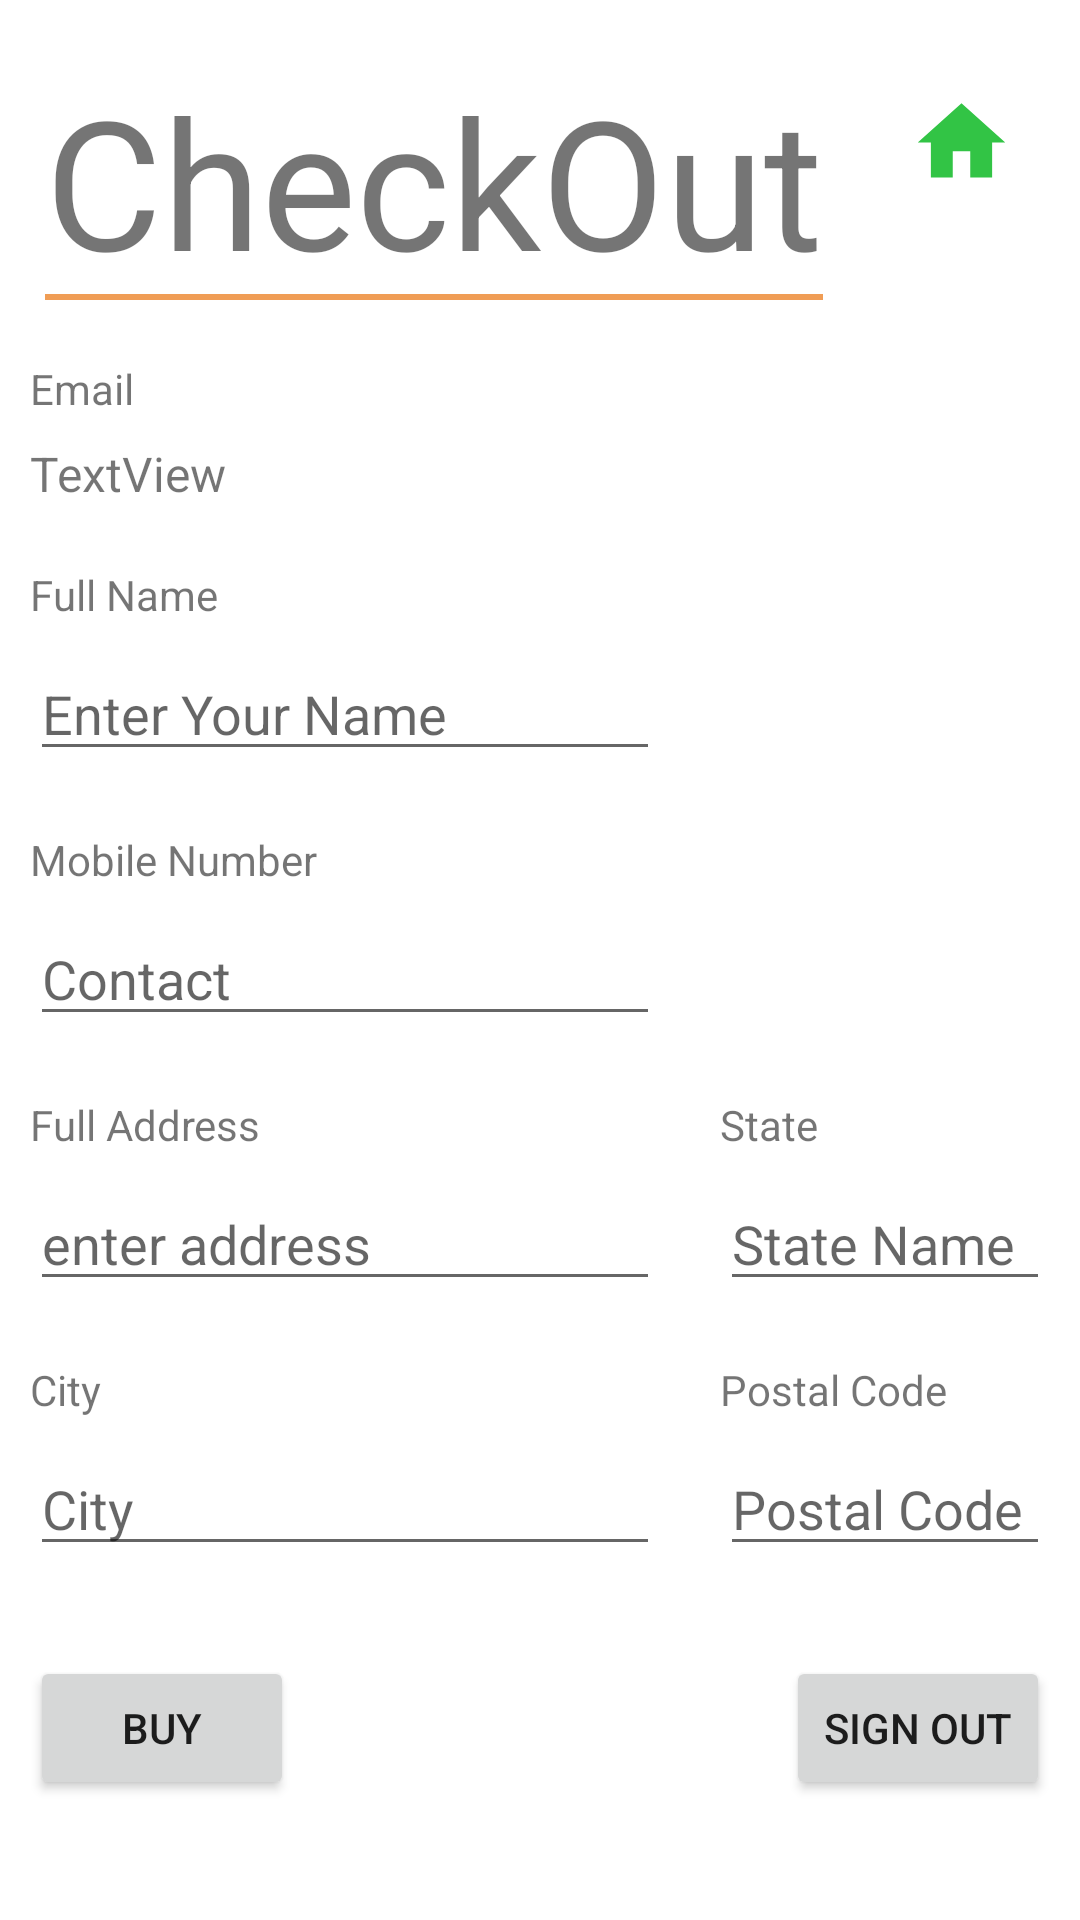

Icons on this 1080px×1920px Android screen, each with the point to tap as (x=x, y=y):
home: (x=961, y=140)
